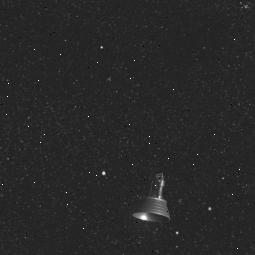debris: (129, 169, 173, 227)
